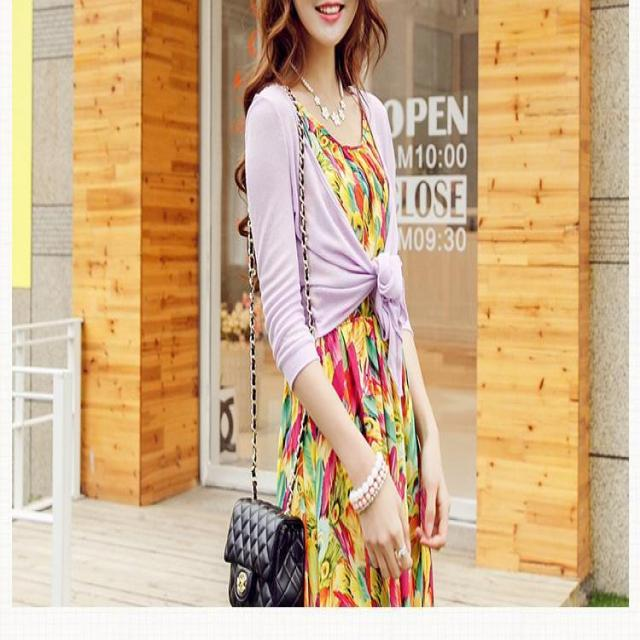long sleeve outwear: (251, 80, 382, 389)
vest dress: (258, 82, 434, 606)
